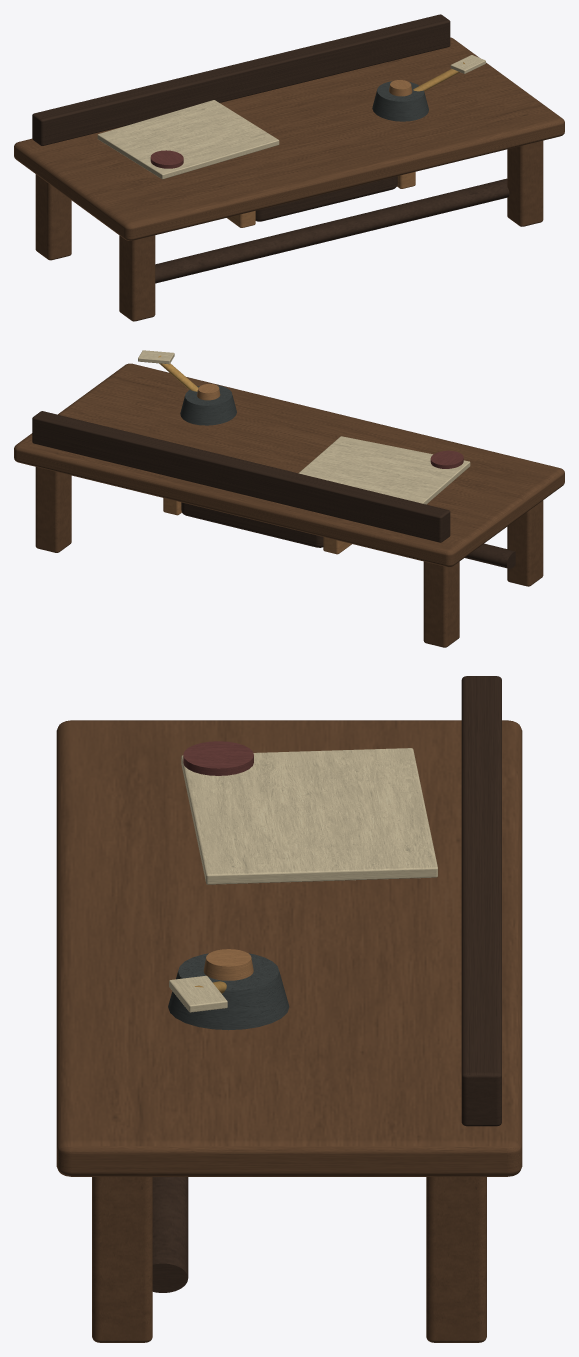
The model's file is writing_desk.glb.
The picture shows the model from 3 angles, top to bottom: view 1: azimuth 30°, elevation 25°; view 2: azimuth 150°, elevation 25°; view 3: azimuth 270°, elevation 25°; orthographic projection. The views are drawn at different scales.
Visible parts, largest first — view 1: writing_desk; view 2: writing_desk; view 3: writing_desk.
Part boxes in pixels (x1,y1,x2,y2): writing_desk: [14, 14, 564, 321]; writing_desk: [14, 350, 564, 647]; writing_desk: [56, 676, 522, 1342].
Bounding box in the file's own units: 2.4 × 0.8 × 1.1.
1 material, 1 textured.
